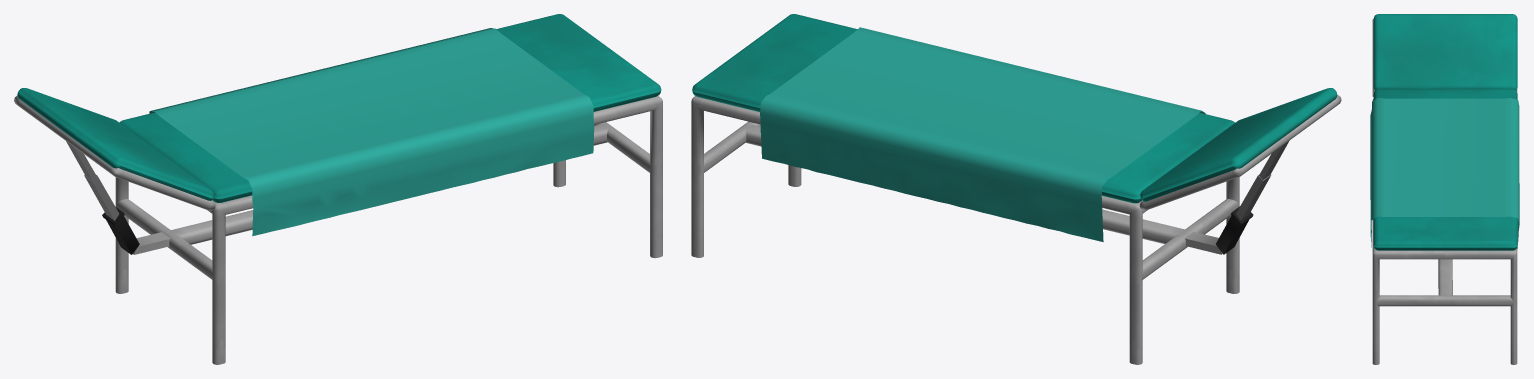
File: SM_ExaminationTable.fbx
3 renders of one model, left to right at view 1: azimuth 30°, elevation 25°; view 2: azimuth 150°, elevation 25°; view 3: azimuth 270°, elevation 25°, orthographic. The views are drawn at different scales.
Parts seen in each view (by area): view 1: SM_ExaminationTable; view 2: SM_ExaminationTable; view 3: SM_ExaminationTable.
Boxes of the visible parts, box(x1,y1,x2,y2) form: SM_ExaminationTable: box(14, 14, 662, 364); SM_ExaminationTable: box(691, 14, 1341, 364); SM_ExaminationTable: box(1370, 14, 1519, 364).
Bounding box in the file's own units: 176 × 69.98 × 58.23.
